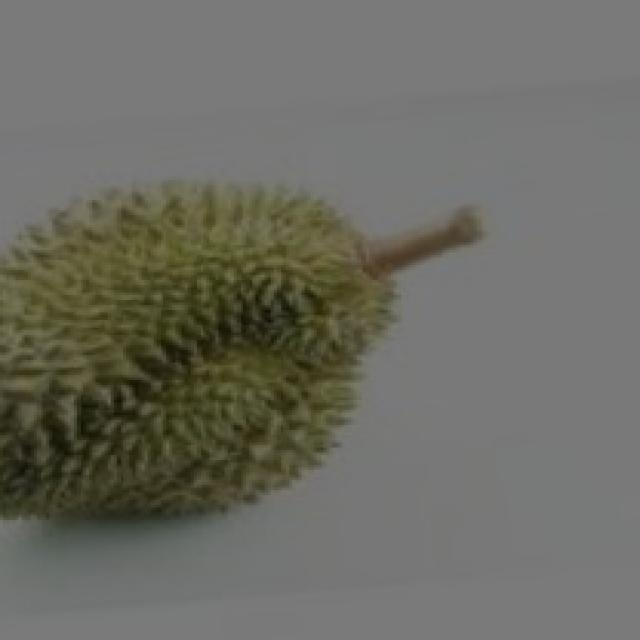fruit: (0, 192, 422, 588)
